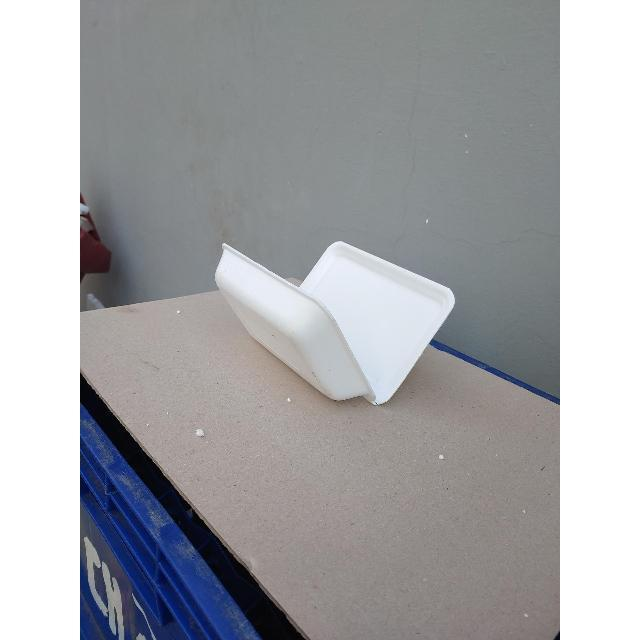Plastico descartable: (214, 246, 451, 406)
